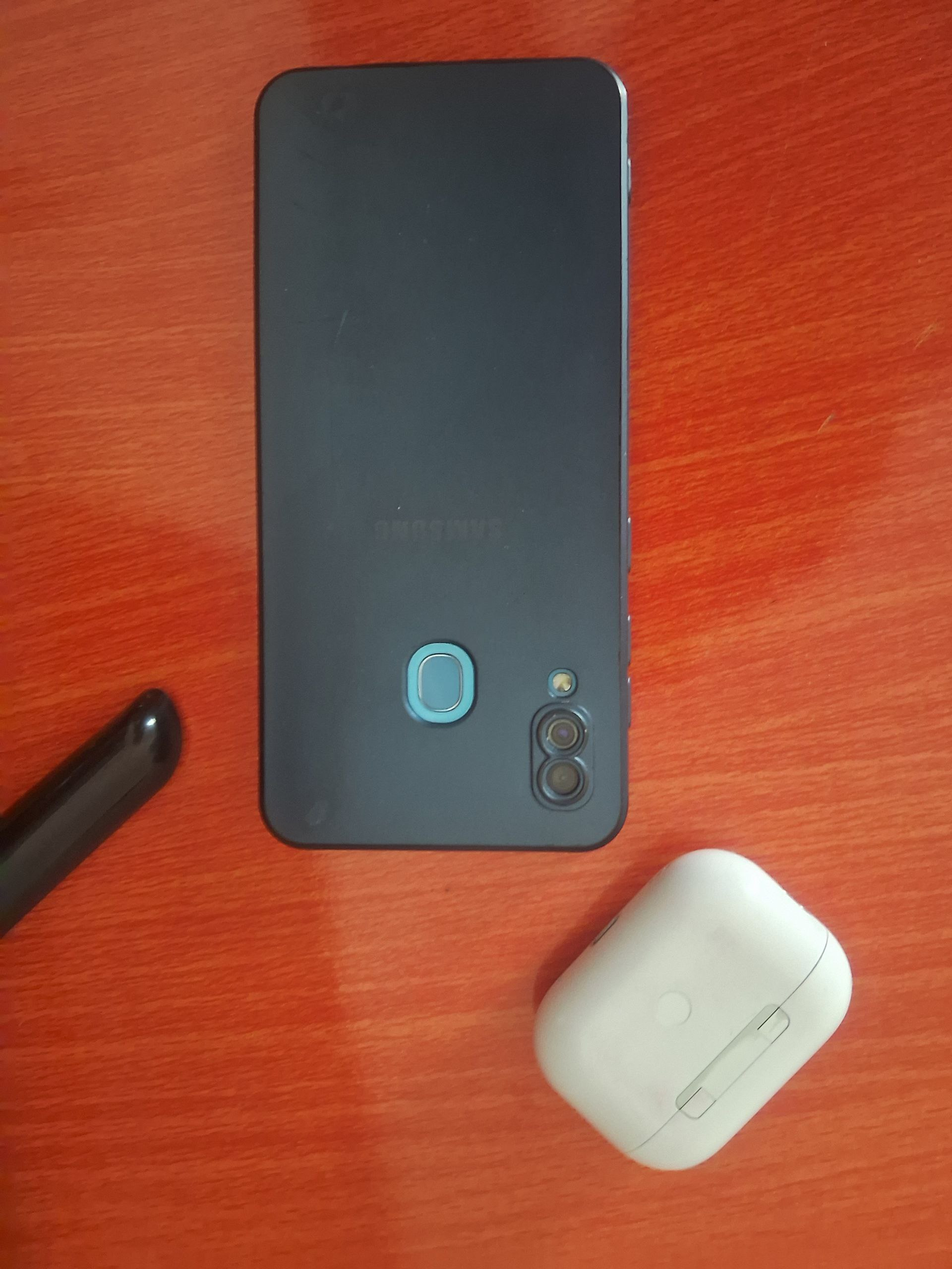Air_pod: (520, 850, 872, 1175)
Smart_phone: (243, 50, 639, 859)
